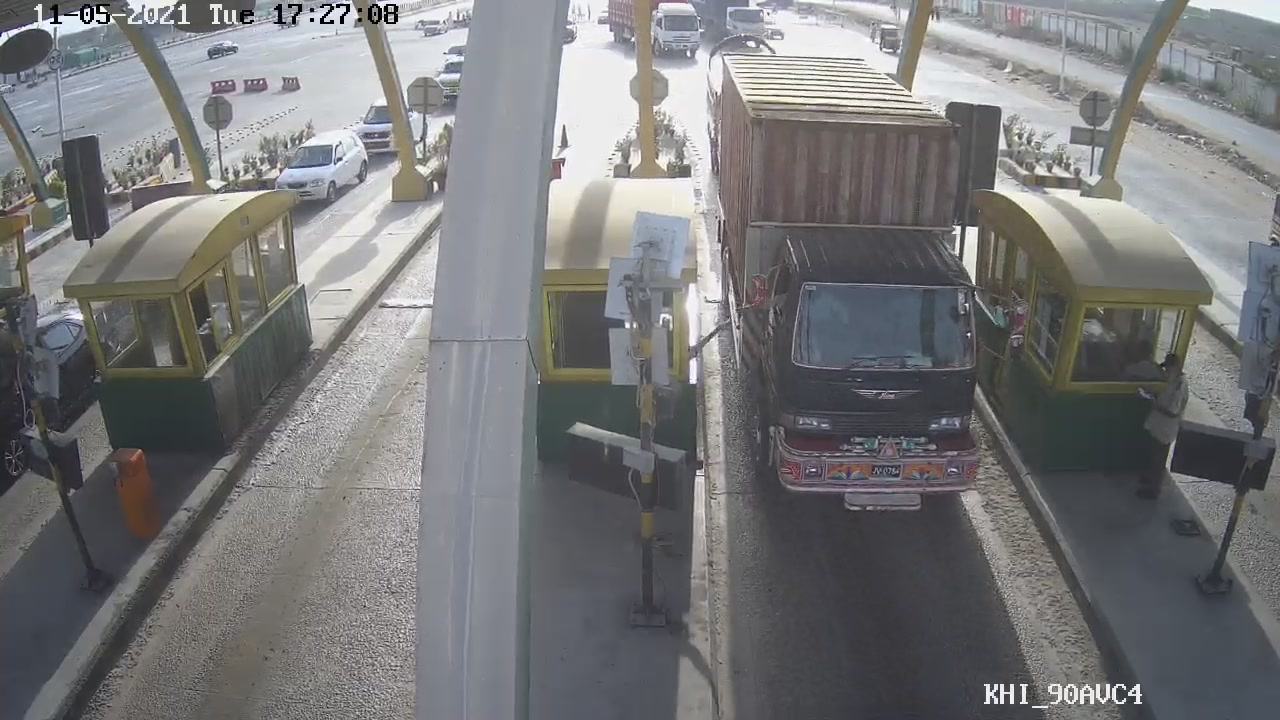F6: (702, 49, 983, 526)
